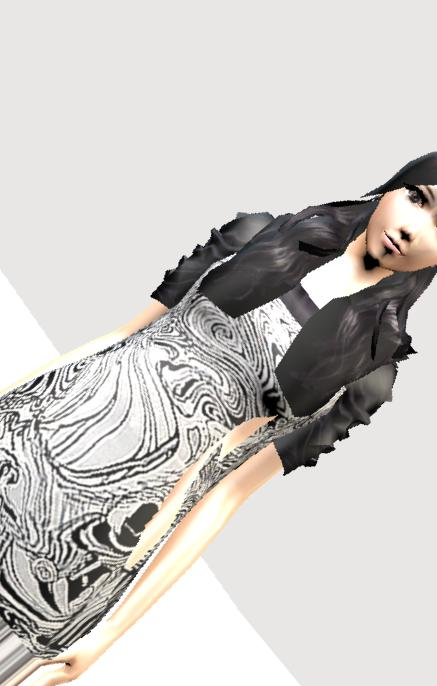clip: (203, 424, 269, 448)
